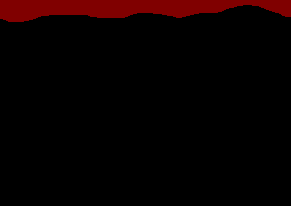Sky: (1, 1, 290, 205)
